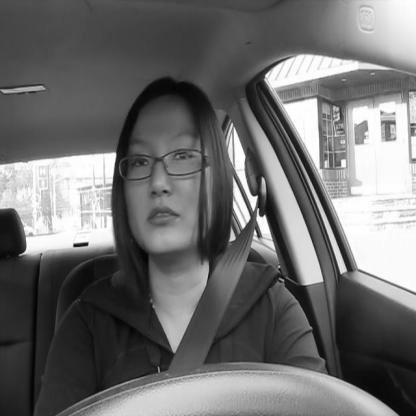seatbelt: (98, 61, 275, 376)
